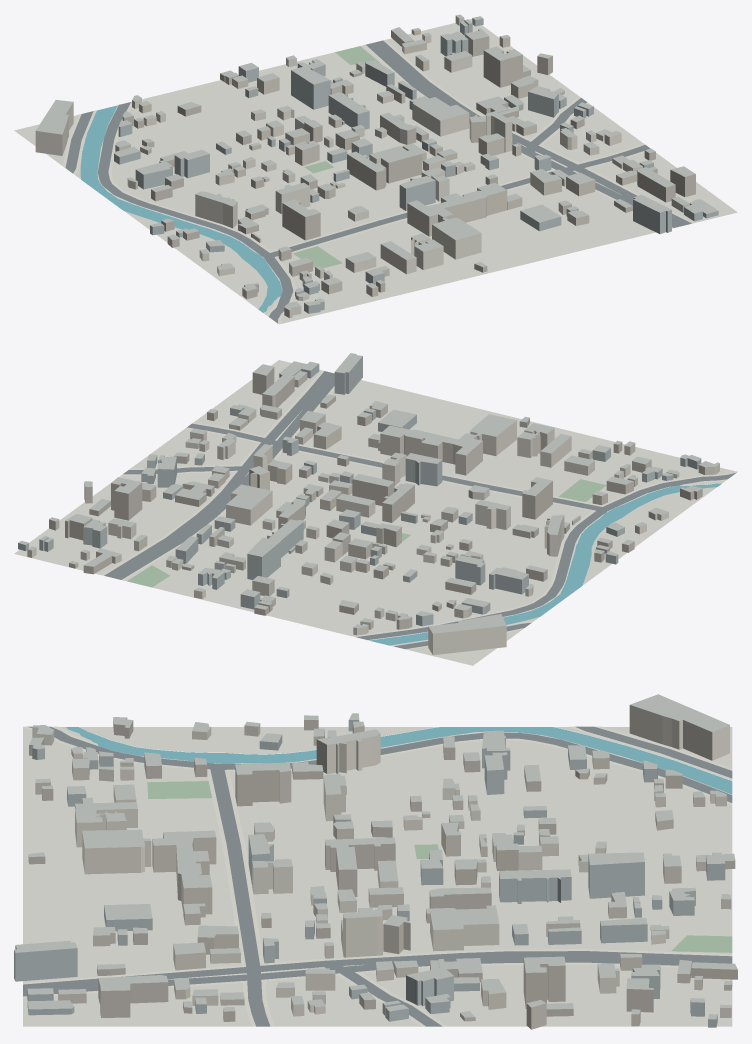
3 views of the same model, one above another, from view 1: azimuth 30°, elevation 25°; view 2: azimuth 150°, elevation 25°; view 3: azimuth 270°, elevation 25° (orthographic). The views are drawn at different scales.
Visible parts, largest first — view 1: city; view 2: city; view 3: city.
Part boxes in pixels (left/top/right/bottom): city: left=14, top=14, right=737, bottom=324; city: left=14, top=353, right=737, bottom=665; city: left=14, top=694, right=737, bottom=1029.
Bounding box in the file's own units: 512 × 30.78 × 510.
